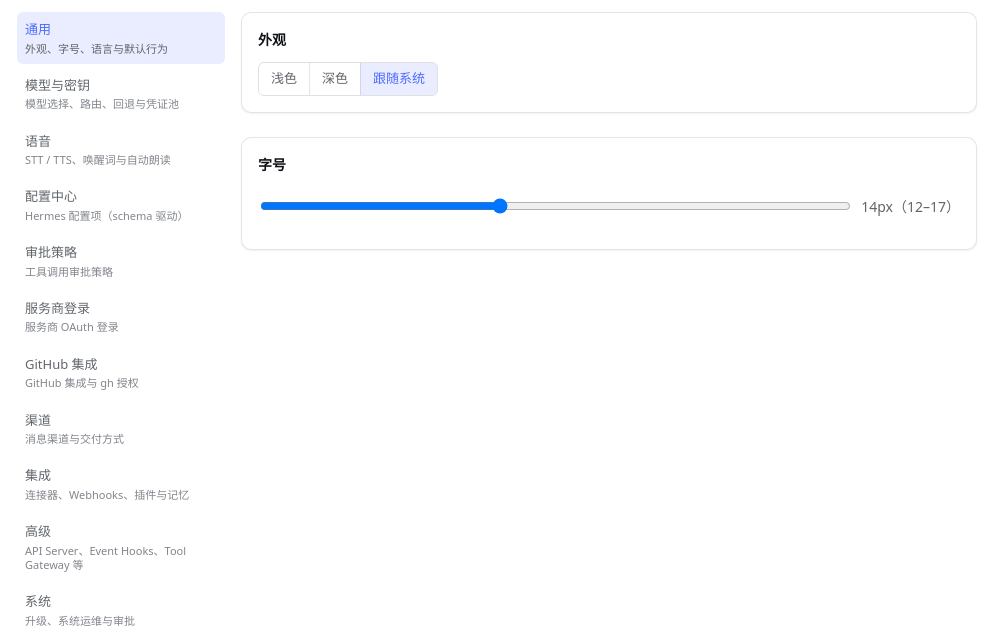
Test: SettingsPage T8.4 配置中心 › loads common config fields and saves the changed patch
The image size is (994, 643).
Click the button "配置中心 Hermes 配置项（schema 驱动）" at {"x": 121, "y": 205}, box [17,179,225,231]
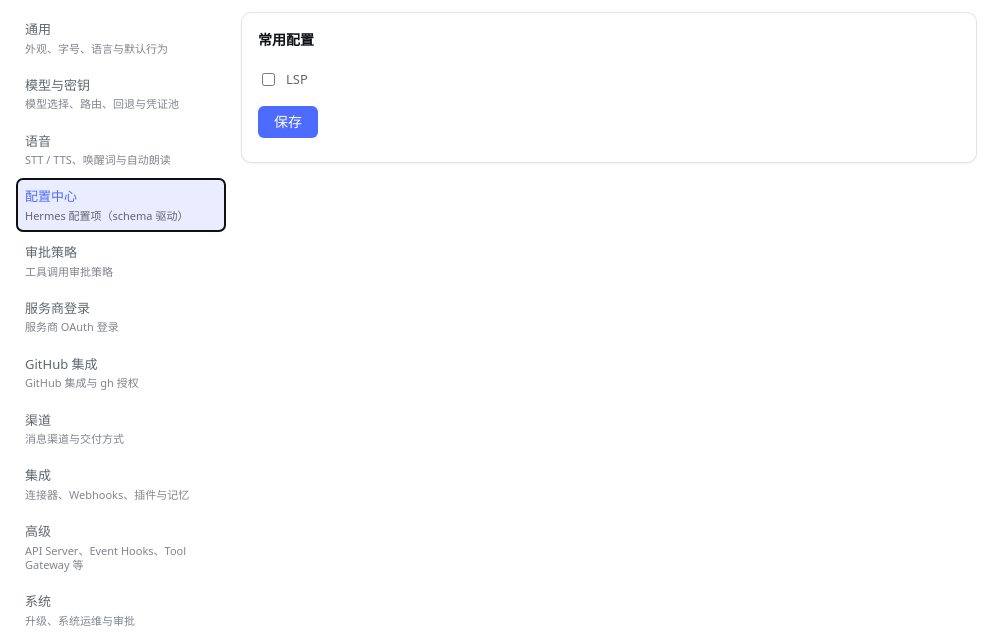
Click the checkbox labelled "LSP" at {"x": 268, "y": 80}, box [262,73,275,86]
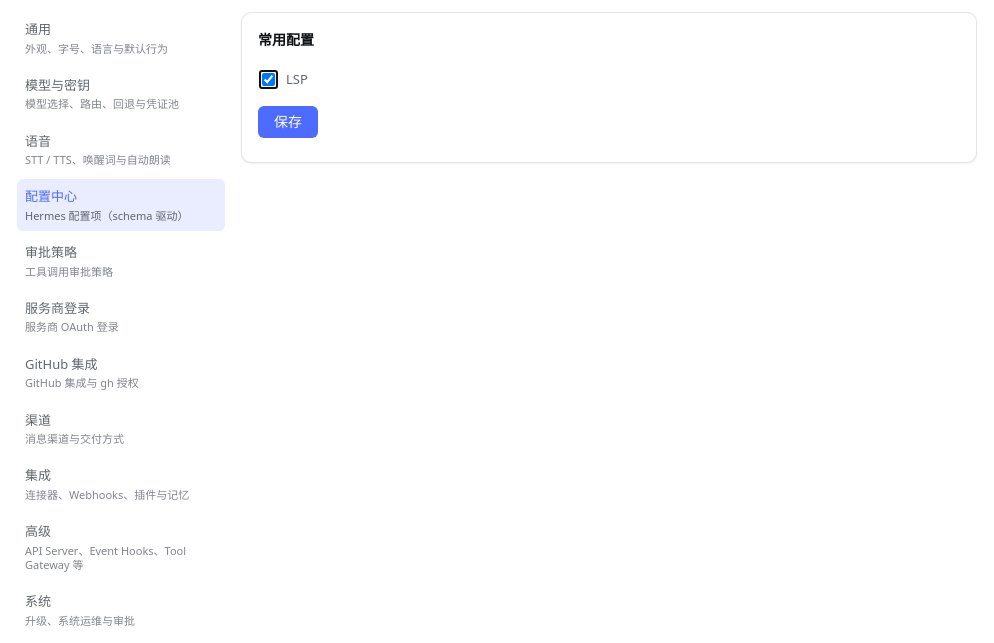
Click the button "保存" at {"x": 288, "y": 122}, box [258,106,318,138]
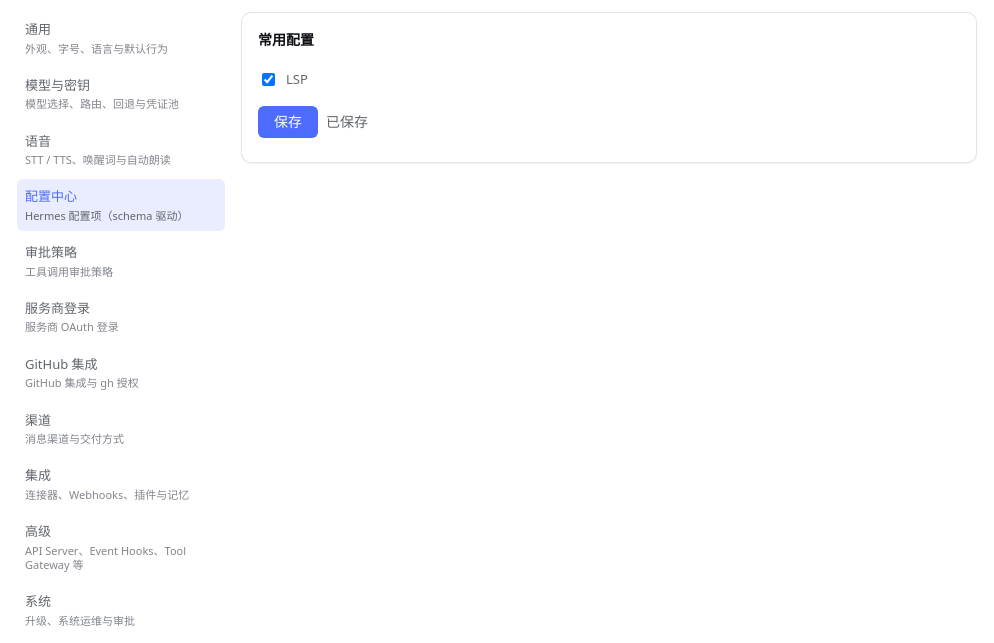
expect the text "已保存" is shown: met, box [326,111,368,132]
